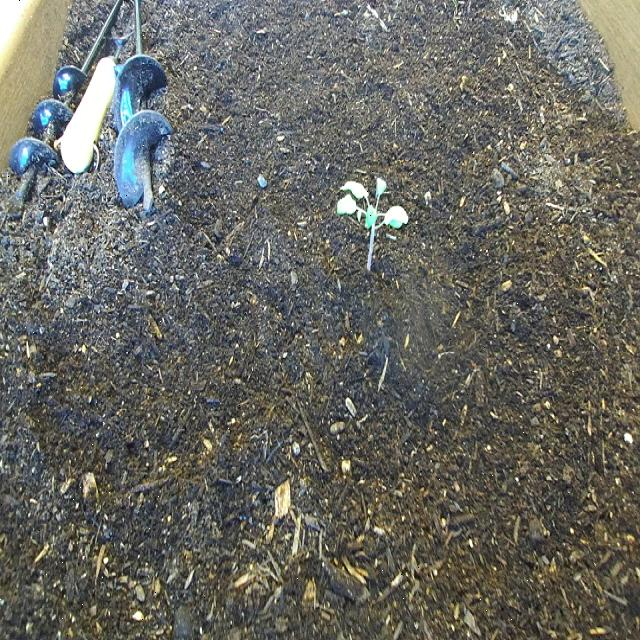Healthy: (333, 174, 412, 276)
